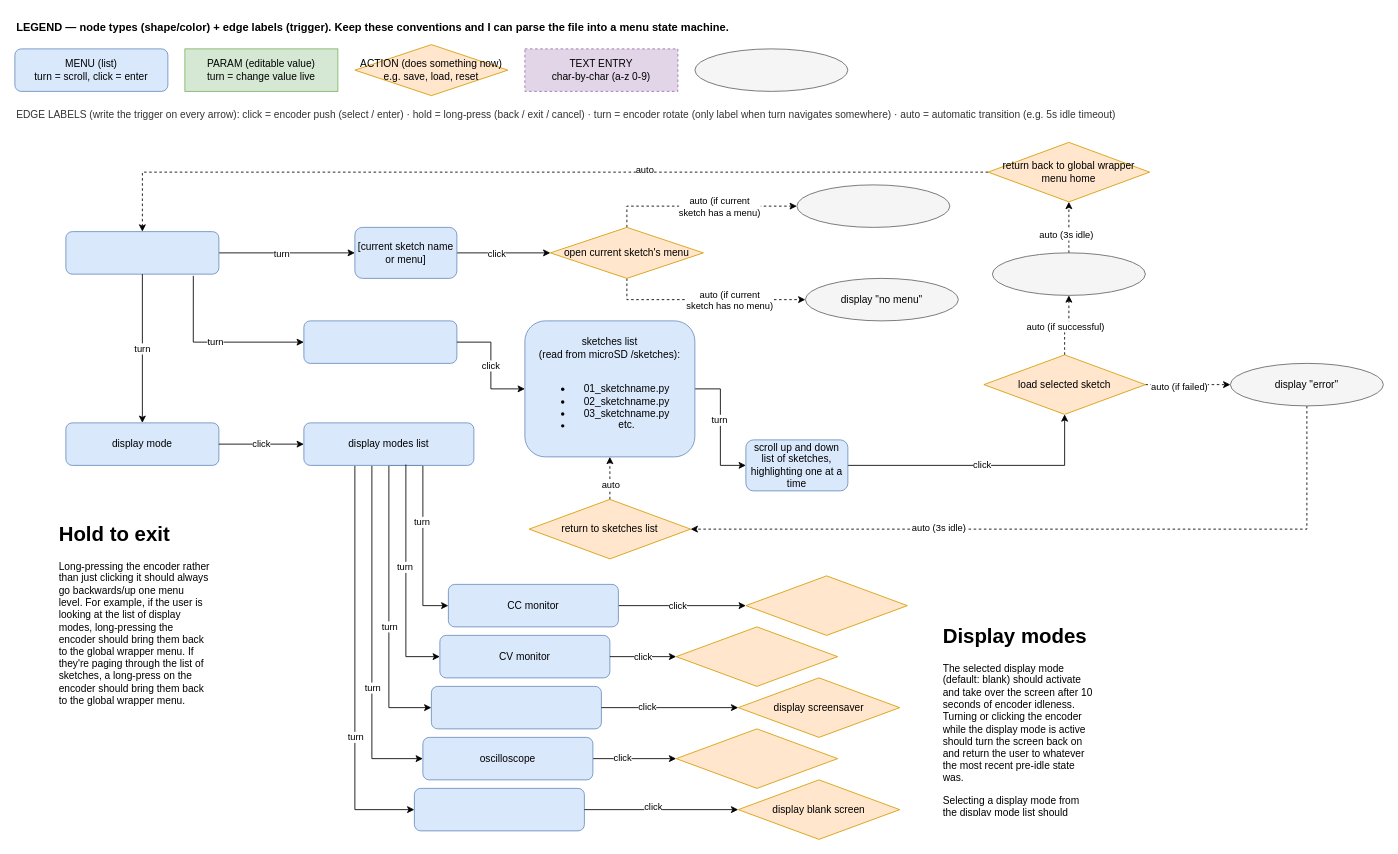
Image size: 1398x854. Some labels were removed from this diagram. Each missing label, with the centre of its shape:
blank: (x=499, y=809)
DISPLAY / TERMINAL takeover screen, no children: (x=771, y=69)
display CC monitor: (x=826, y=605)
display confirmation ("[sketch name] loaded": (x=1068, y=273)
display current sketch's menu: (x=873, y=205)
display CV monitor: (x=756, y=656)
display oscilloscope: (x=756, y=758)
global "wrapper" menu: (x=142, y=252)
load sketch: (x=380, y=341)
screensaver: (x=516, y=707)
